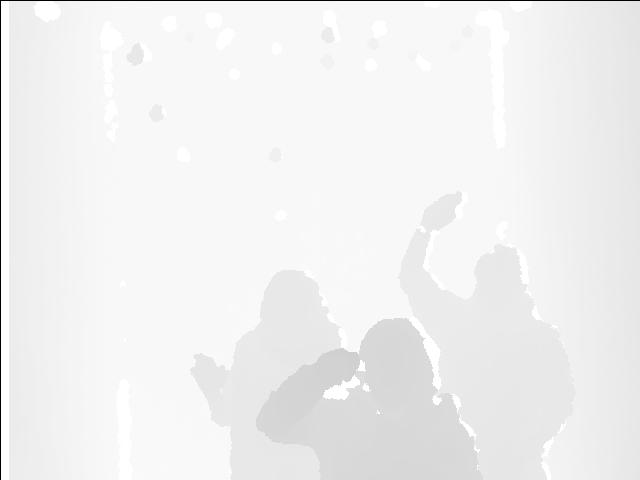hand: (420, 190, 464, 230)
